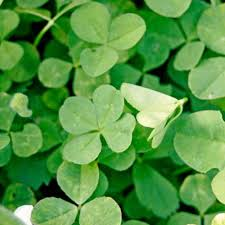4-clover: (54, 87, 133, 166)
